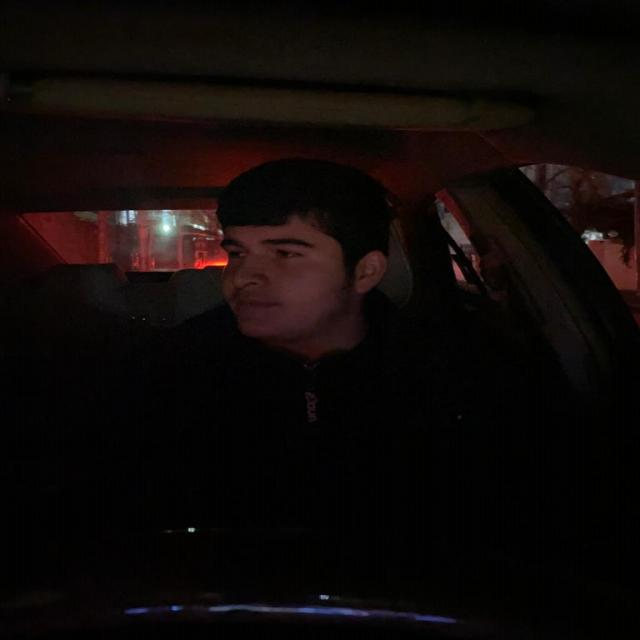LeftRight: (211, 156, 397, 342)
